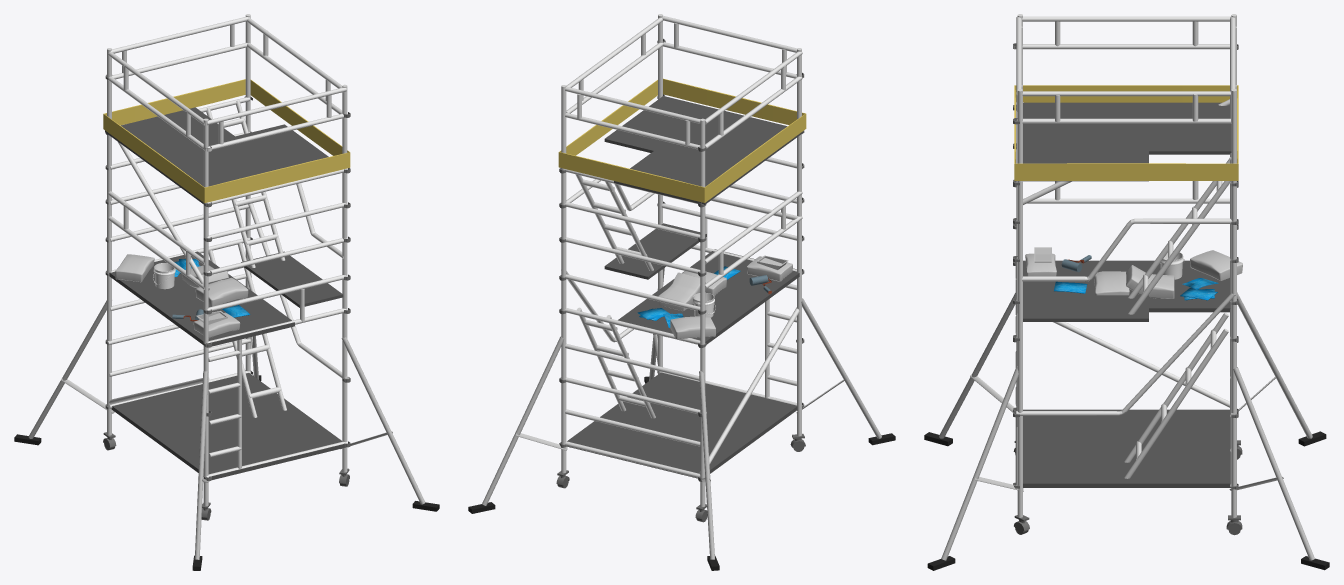
Rendered from Andamios con Elementos Desordenados.fbx.
3 views of the same model, side by side, from view 1: azimuth 30°, elevation 25°; view 2: azimuth 150°, elevation 25°; view 3: azimuth 270°, elevation 25° (orthographic). The views are drawn at different scales.
Visible parts, largest first — view 1: Plane, Circle, Circle.001, SafeZone, Circle.002, Cemento.003, Cemento.001, Structure.010, Cemento; view 2: Plane, Circle, Circle.001, SafeZone, Circle.002, Cemento.002, Cemento.001, Structure.010, Cemento, BaseRodachines; view 3: Plane, Circle, Circle.001, SafeZone, Circle.002, Cemento.001, Cemento.002, Cemento.003, Structure.010, BaseRodachines, Cemento.
Part boxes in pixels (x1,y1,x2,y2): Plane: (105, 107, 345, 479); Circle: (106, 14, 349, 435); Circle.001: (203, 84, 347, 506); SafeZone: (103, 79, 350, 202); Circle.002: (14, 272, 439, 570); Cemento.003: (195, 277, 248, 306); Cemento.001: (115, 254, 154, 282); Structure.010: (105, 74, 350, 481); Cemento: (193, 312, 240, 337); Plane: (566, 96, 803, 478); Circle: (560, 18, 802, 506); Circle.001: (575, 14, 802, 436); SafeZone: (558, 78, 806, 202); Circle.002: (468, 268, 895, 570); Cemento.002: (658, 272, 705, 311); Cemento.001: (670, 316, 715, 339); Structure.010: (559, 38, 804, 481); Cemento: (747, 256, 792, 281); BaseRodachines: (556, 433, 805, 522); Plane: (1015, 102, 1231, 487); Circle: (1016, 14, 1236, 517); Circle.001: (1015, 14, 1231, 517); SafeZone: (1014, 85, 1238, 180); Circle.002: (924, 292, 1329, 570); Cemento.001: (1190, 250, 1242, 280); Cemento.002: (1126, 265, 1174, 298); Cemento.003: (1094, 271, 1129, 295); Structure.010: (1013, 44, 1238, 489); BaseRodachines: (1013, 440, 1242, 535); Cemento: (1025, 253, 1056, 276).
Size of the model in its own units: 1368 by 2130 by 1736.
